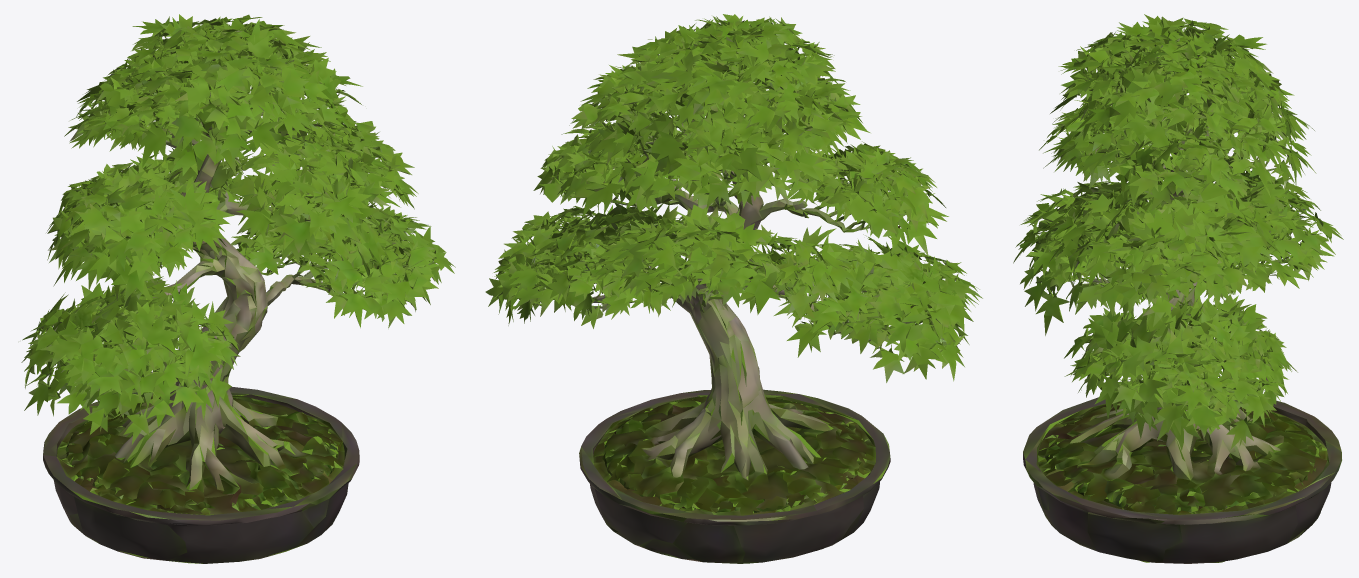
The model's file is maple.glb.
3 views of the same model, side by side, from view 1: azimuth 30°, elevation 25°; view 2: azimuth 150°, elevation 25°; view 3: azimuth 270°, elevation 25° (orthographic). The views are drawn at different scales.
Visible parts, largest first — view 1: Mesh_0; view 2: Mesh_0; view 3: Mesh_0.
Part boxes in pixels (bbox=[...]): Mesh_0: bbox=[21, 14, 455, 563]; Mesh_0: bbox=[485, 14, 982, 563]; Mesh_0: bbox=[1013, 14, 1343, 563].
Bounding box in the file's own units: 1.79 × 1.9 × 1.18.
1 material, 1 textured.
